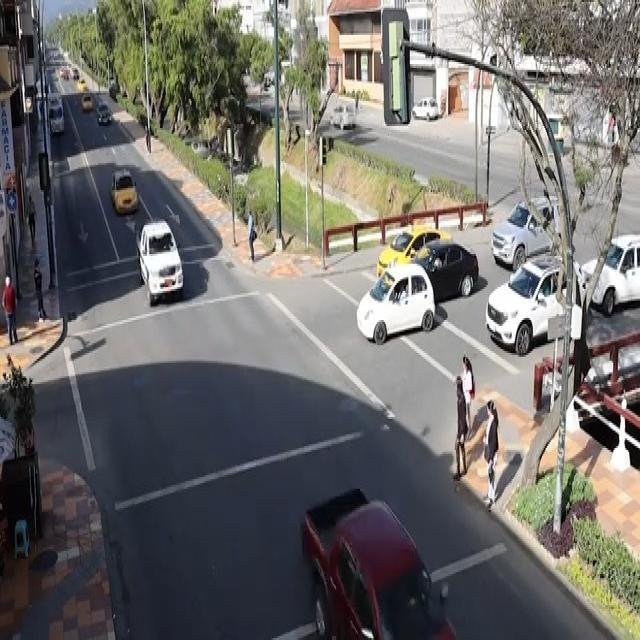CMT: (302, 490, 456, 640), (137, 222, 188, 306)
